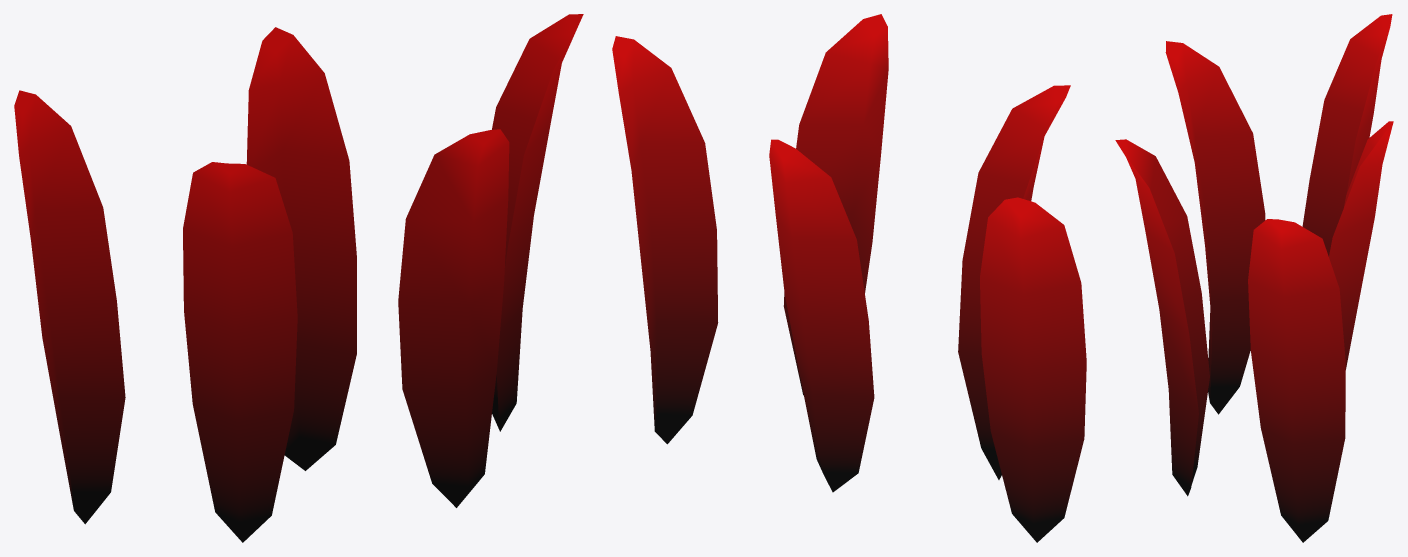
Rendered from Grass2.fbx.
The picture shows the model from 3 angles, left to right: view 1: azimuth 30°, elevation 25°; view 2: azimuth 150°, elevation 25°; view 3: azimuth 270°, elevation 25°; orthographic projection. The views are drawn at different scales.
Visible parts, largest first — view 1: Plane.002; view 2: Plane.002; view 3: Plane.002.
Part boxes in pixels (bbox=[...]): Plane.002: bbox=[14, 14, 583, 542]; Plane.002: bbox=[612, 14, 1086, 542]; Plane.002: bbox=[1115, 14, 1393, 542].
Bounding box in the file's own units: 61.42 × 46.09 × 32.84.
